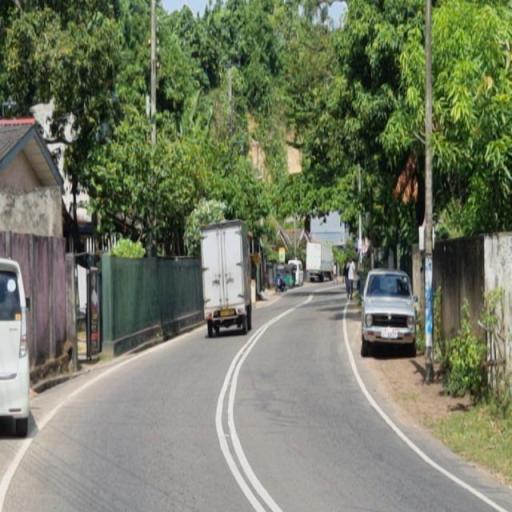double_white_line: (213, 293, 280, 512)
